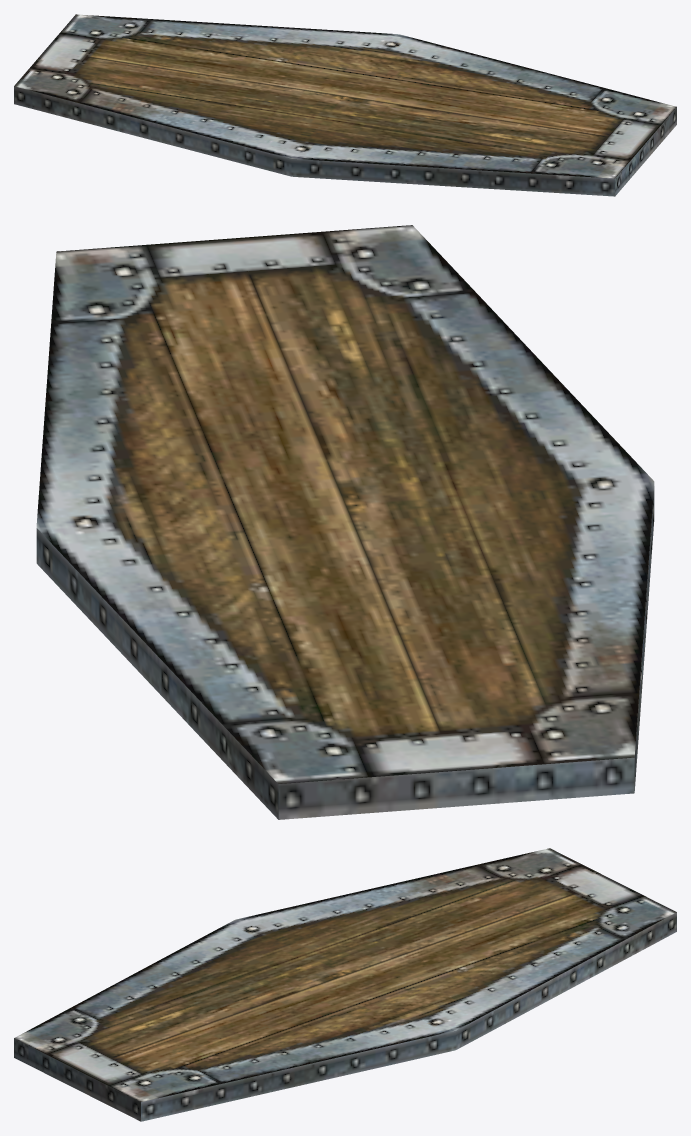
The picture shows the model from 3 angles, top to bottom: view 1: azimuth 30°, elevation 25°; view 2: azimuth 150°, elevation 25°; view 3: azimuth 270°, elevation 25°; orthographic projection. The views are drawn at different scales.
Visible parts, largest first — view 1: ms3; view 2: ms3; view 3: ms3.
Part boxes in pixels (left/top/right/bottom): ms3: left=14, top=14, right=676, bottom=196; ms3: left=36, top=225, right=654, bottom=819; ms3: left=14, top=848, right=676, bottom=1121.
Size of the model in its own units: 0.8549 by 0.0308 by 0.9428.
Materials: 1 (1 with a texture image).
